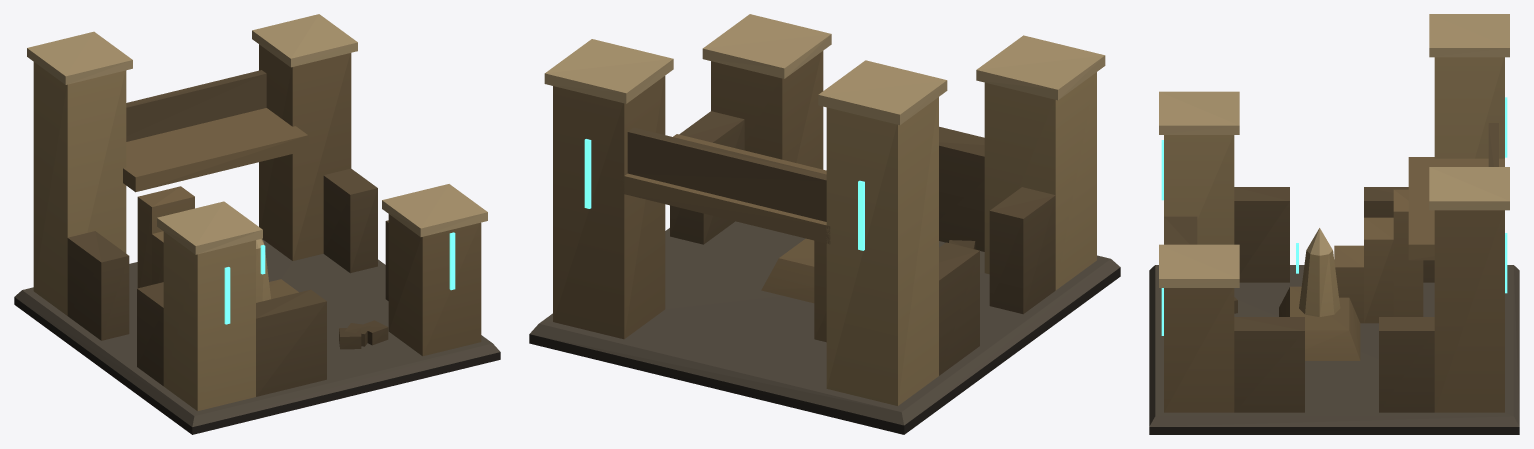
File: temple-ziggurat.glb
3 renders of one model, left to right at view 1: azimuth 30°, elevation 25°; view 2: azimuth 150°, elevation 25°; view 3: azimuth 270°, elevation 25°, orthographic. The views are drawn at different scales.
Bounding box in the file's own units: 5 × 4 × 5.
